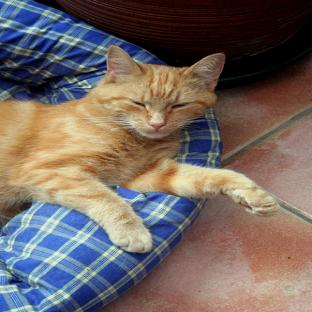Animal: (1, 46, 278, 252)
